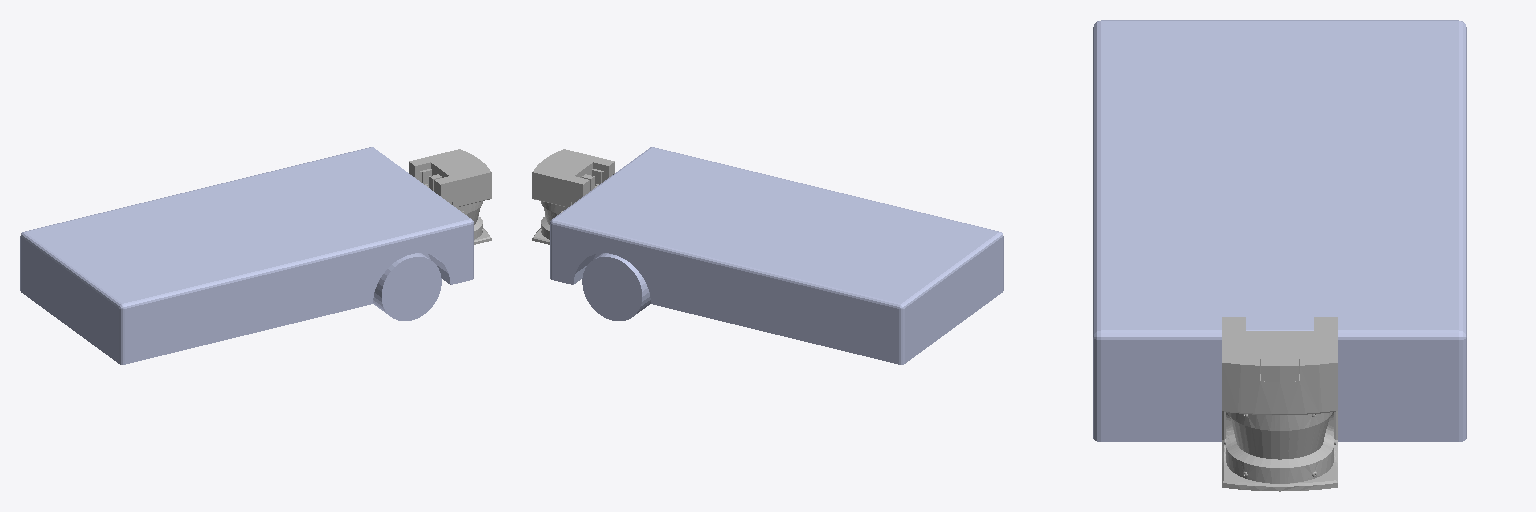
URDF robot description (robot9):
<?xml version="1.0" encoding="utf-8"?>
<!-- This URDF was automatically created by SolidWorks to URDF Exporter! Originally created by [author] ([email redacted]) 
     Commit Version: 1.5.1-0-g916b5db  Build Version: 1.5.7152.31018
     For more information, please see http://wiki.ros.org/sw_urdf_exporter -->
<robot
  name="robot9">
  <link
    name="base_link">
    <inertial>
      <origin
        xyz="0.0098794 -4.1862E-17 0.0034954"
        rpy="0 0 0" />
      <mass
        value="71.854" />
      <inertia
        ixx="1.657"
        ixy="-5.7485E-16"
        ixz="0.021573"
        iyy="5.8166"
        iyz="1.4772E-16"
        izz="7.1645" />
    </inertial>
    <visual>
      <origin
        xyz="0 0 0"
        rpy="0 0 0" />
      <geometry>
        <mesh
          filename="package://robot9/meshes/base_link.STL" />
      </geometry>
      <material
        name="">
        <color
          rgba="0.79216 0.81961 0.93333 1" />
      </material>
    </visual>
    <collision>
      <origin
        xyz="0 0 0"
        rpy="0 0 0" />
      <geometry>
        <mesh
          filename="package://robot9/meshes/base_link.STL" />
      </geometry>
    </collision>
  </link>
  <link
    name="right_wheel_link">
    <inertial>
      <origin
        xyz="0 0 -0.054877"
        rpy="0 0 0" />
      <mass
        value="1.8206" />
      <inertia
        ixx="0.0042591"
        ixy="-5.421E-20"
        ixz="5.3908E-20"
        iyy="0.0042591"
        iyz="6.8415E-21"
        izz="0.00656" />
    </inertial>
    <visual>
      <origin
        xyz="0 0 0"
        rpy="0 0 0" />
      <geometry>
        <mesh
          filename="package://robot9/meshes/right_wheel_link.STL" />
      </geometry>
      <material
        name="">
        <color
          rgba="0.79216 0.81961 0.93333 1" />
      </material>
    </visual>
    <collision>
      <origin
        xyz="0 0 0"
        rpy="0 0 0" />
      <geometry>
        <mesh
          filename="package://robot9/meshes/right_wheel_link.STL" />
      </geometry>
    </collision>
  </link>
  <joint
    name="right_wheel_joint"
    type="continuous">
    <origin
      xyz="0.32 -0.155 -0.064926"
      rpy="-1.5708 0.13359 0" />
    <parent
      link="base_link" />
    <child
      link="right_wheel_link" />
    <axis
      xyz="0 0 1" />
  </joint>
  <link
    name="left_wheel_link">
    <inertial>
      <origin
        xyz="2.7756E-17 0 -0.054877"
        rpy="0 0 0" />
      <mass
        value="1.8206" />
      <inertia
        ixx="0.0042591"
        ixy="-4.3368E-19"
        ixz="1.5916E-19"
        iyy="0.0042591"
        iyz="1.3035E-20"
        izz="0.00656" />
    </inertial>
    <visual>
      <origin
        xyz="0 0 0"
        rpy="0 0 0" />
      <geometry>
        <mesh
          filename="package://robot9/meshes/left_wheel_link.STL" />
      </geometry>
      <material
        name="">
        <color
          rgba="0.79216 0.81961 0.93333 1" />
      </material>
    </visual>
    <collision>
      <origin
        xyz="0 0 0"
        rpy="0 0 0" />
      <geometry>
        <mesh
          filename="package://robot9/meshes/left_wheel_link.STL" />
      </geometry>
    </collision>
  </link>
  <joint
    name="left_wheel_joint"
    type="continuous">
    <origin
      xyz="0.32 0.155 -0.064926"
      rpy="-1.5708 -1.2488 3.1416" />
    <parent
      link="base_link" />
    <child
      link="left_wheel_link" />
    <axis
      xyz="0 0 1" />
  </joint>
  <link
    name="laser_sick_link">
    <inertial>
      <origin
        xyz="2.3225E-09 0.00059635 0.07464"
        rpy="0 0 0" />
      <mass
        value="29.076" />
      <inertia
        ixx="0.13416"
        ixy="2.4047E-09"
        ixz="-5.1043E-09"
        iyy="0.10224"
        iyz="-0.0099819"
        izz="0.13751" />
    </inertial>
    <visual>
      <origin
        xyz="0 0 0"
        rpy="0 0 0" />
      <geometry>
        <mesh
          filename="package://robot9/meshes/laser_sick_link.STL" />
      </geometry>
      <material
        name="">
        <color
          rgba="0.75294 0.75294 0.75294 1" />
      </material>
    </visual>
    <collision>
      <origin
        xyz="0 0 0"
        rpy="0 0 0" />
      <geometry>
        <mesh
          filename="package://robot9/meshes/laser_sick_link.STL" />
      </geometry>
    </collision>
  </link>
  <joint
    name="laser_sick_joint"
    type="fixed">
    <origin
      xyz="0.501 0 0.0125"
      rpy="1.5708 0 1.5708" />
    <parent
      link="base_link" />
    <child
      link="laser_sick_link" />
    <axis
      xyz="0 0 0" />
  </joint>
  <link
    name="fork_c_joint">
    <inertial>
      <origin
        xyz="0 0 0"
        rpy="0 0 0" />
      <mass
        value="0" />
      <inertia
        ixx="0"
        ixy="0"
        ixz="0"
        iyy="0"
        iyz="0"
        izz="0" />
    </inertial>
    <visual>
      <origin
        xyz="0 0 0"
        rpy="0 0 0" />
      <geometry>
        <mesh
          filename="package://robot9/meshes/fork_c_joint.STL" />
      </geometry>
      <material
        name="">
        <color
          rgba="1 1 1 1" />
      </material>
    </visual>
    <collision>
      <origin
        xyz="0 0 0"
        rpy="0 0 0" />
      <geometry>
        <mesh
          filename="package://robot9/meshes/fork_c_joint.STL" />
      </geometry>
    </collision>
  </link>
  <joint
    name="fork_c_joint"
    type="continuous">
    <origin
      xyz="-0.36 0 0"
      rpy="1.5708 0 -2.6139" />
    <parent
      link="base_link" />
    <child
      link="fork_c_joint" />
    <axis
      xyz="0 1 0" />
  </joint>
  <link
    name="wheel_c_link">
    <inertial>
      <origin
        xyz="1.6653E-16 4.1633E-17 1.9151E-15"
        rpy="0 0 0" />
      <mass
        value="0.56957" />
      <inertia
        ixx="0.00097832"
        ixy="-7.3059E-21"
        ixz="-4.8789E-19"
        iyy="0.00097832"
        iyz="-2.9758E-18"
        izz="0.0017885" />
    </inertial>
    <visual>
      <origin
        xyz="0 0 0"
        rpy="0 0 0" />
      <geometry>
        <mesh
          filename="package://robot9/meshes/wheel_c_link.STL" />
      </geometry>
      <material
        name="">
        <color
          rgba="1 1 1 1" />
      </material>
    </visual>
    <collision>
      <origin
        xyz="0 0 0"
        rpy="0 0 0" />
      <geometry>
        <mesh
          filename="package://robot9/meshes/wheel_c_link.STL" />
      </geometry>
    </collision>
  </link>
  <joint
    name="wheel_c_joint"
    type="continuous">
    <origin
      xyz="-0.042 -0.1 0"
      rpy="-3.1416 0 -3.1416" />
    <parent
      link="fork_c_joint" />
    <child
      link="wheel_c_link" />
    <axis
      xyz="0 0 1" />
  </joint>
</robot>

--- Render facts (derived) ---
3 views of the same robot in one strip: view 1: azimuth 30°, elevation 25°; view 2: azimuth 150°, elevation 25°; view 3: azimuth 270°, elevation 25° (orthographic).
Robot: robot9 — 6 links, 5 joints (4 continuous, 1 fixed); root link base_link; default pose: every joint at zero.
Visible links, largest first — view 1: base_link, laser_sick_link, right_wheel_link; view 2: base_link, laser_sick_link, left_wheel_link; view 3: base_link, laser_sick_link.
Link boxes in pixels (x1,y1,x2,y2): base_link: [20, 147, 473, 364]; laser_sick_link: [409, 149, 491, 244]; right_wheel_link: [373, 253, 441, 320]; base_link: [550, 147, 1003, 364]; laser_sick_link: [532, 149, 614, 244]; left_wheel_link: [582, 253, 650, 320]; base_link: [1093, 20, 1466, 441]; laser_sick_link: [1222, 317, 1337, 491].
Size in the robot's own frame: 1.16 by 0.5 by 0.2797 metres.
Meshes: 6 distinct files referenced, 6 mesh visuals loaded (6 binary STL).